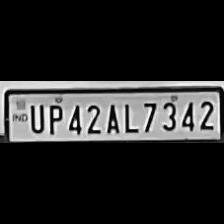2: (82, 102, 102, 134), (196, 97, 214, 130)
3: (158, 98, 176, 132)
4: (178, 98, 196, 132), (65, 102, 83, 134)
7: (139, 99, 157, 133)
A: (102, 100, 122, 134)
L: (120, 99, 138, 133)
P: (43, 102, 62, 134)
U: (26, 101, 44, 133)
